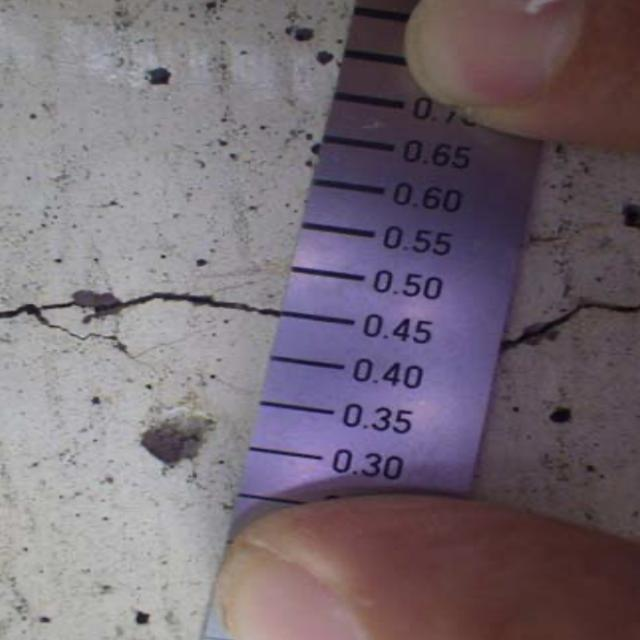crack: (4, 280, 280, 340), (510, 293, 640, 358)
